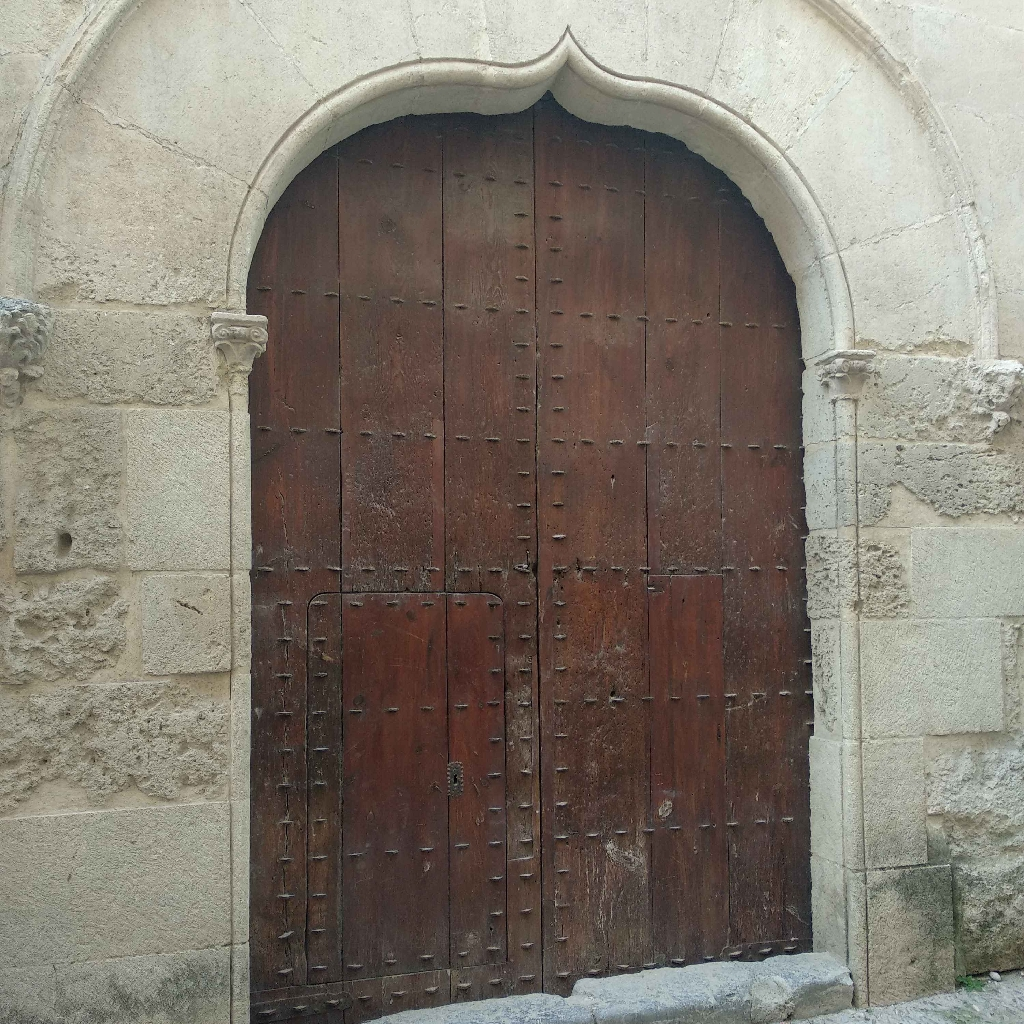arco-conopial: (238, 22, 848, 212)
